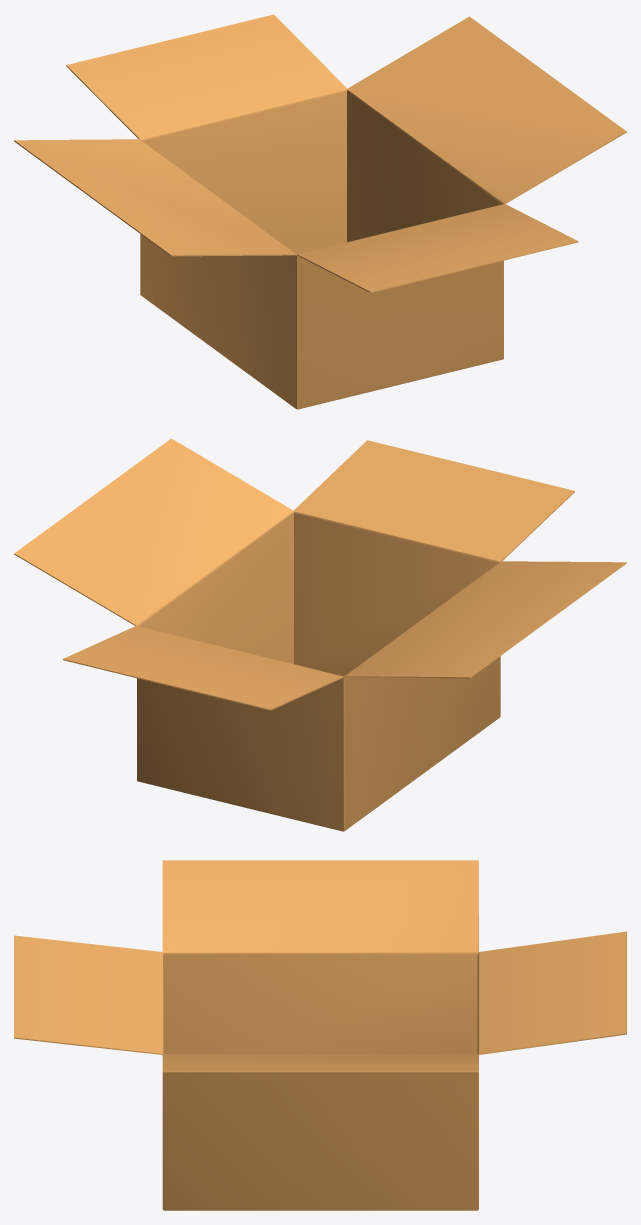
The model's file is Box_Axel.fbx.
The picture shows the model from 3 angles, top to bottom: view 1: azimuth 30°, elevation 25°; view 2: azimuth 150°, elevation 25°; view 3: azimuth 270°, elevation 25°; orthographic projection.
Parts seen in each view (by area): view 1: Box001; view 2: Box001; view 3: Box001.
Part boxes in pixels (<box>): Box001: <box>14,14,626,409</box>; Box001: <box>14,438,626,831</box>; Box001: <box>14,860,626,1210</box>.
Size of the model in its own units: 334 by 139 by 387.
